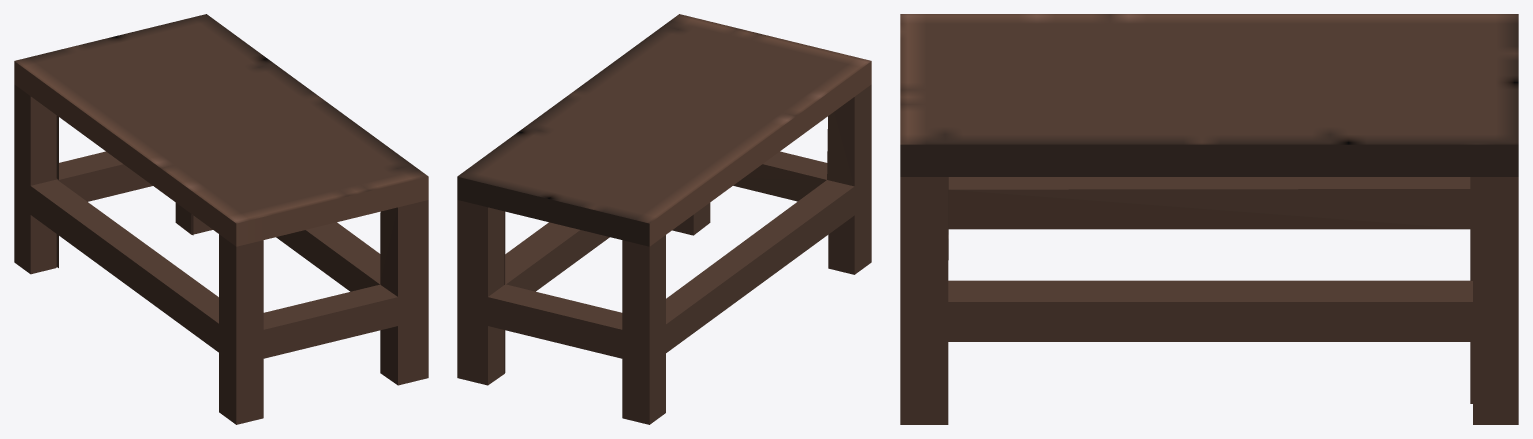
Rendered from table_1003x00.obj.
3 renders of one model, left to right at view 1: azimuth 30°, elevation 25°; view 2: azimuth 150°, elevation 25°; view 3: azimuth 270°, elevation 25°, orthographic. The views are drawn at different scales.
Visible parts, largest first — view 1: Table_1003x0; view 2: Table_1003x0; view 3: Table_1003x0.
Part boxes in pixels (<box>): Table_1003x0: <box>14,14,428,424</box>; Table_1003x0: <box>457,14,871,424</box>; Table_1003x0: <box>900,14,1518,424</box>.
Bounding box in the file's own units: 2 × 2 × 4.
